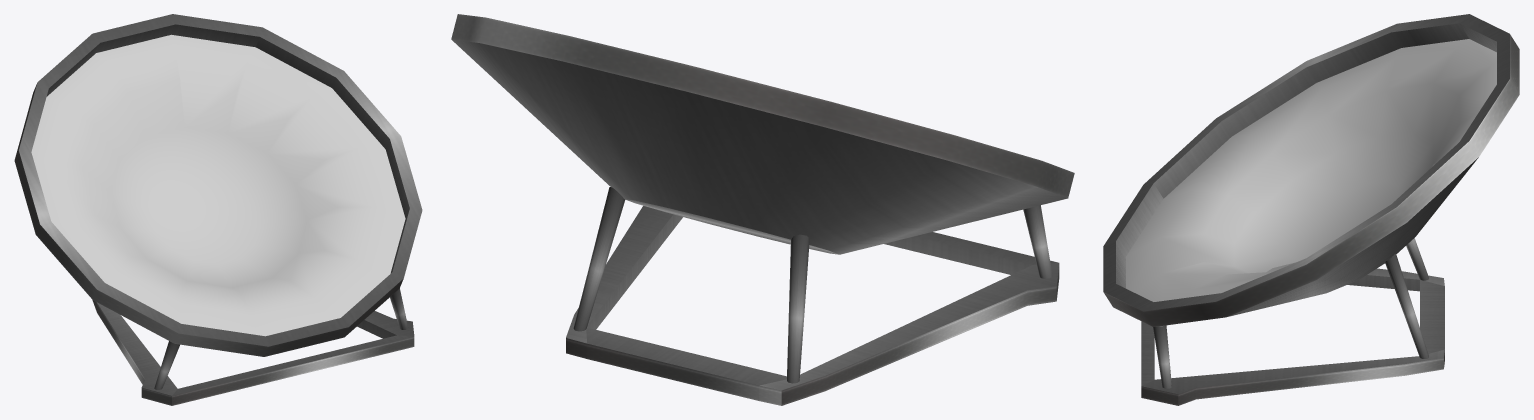
Rendered from Saucer_Chair_02.FBX.
3 renders of one model, left to right at view 1: azimuth 30°, elevation 25°; view 2: azimuth 150°, elevation 25°; view 3: azimuth 270°, elevation 25°, orthographic. The views are drawn at different scales.
Visible parts, largest first — view 1: Saucer Chair; view 2: Saucer Chair; view 3: Saucer Chair.
Boxes of the visible parts, x1,y1,x2,y2 form: Saucer Chair: (14,14,422,405); Saucer Chair: (451,14,1074,405); Saucer Chair: (1103,14,1519,405).
Bounding box in the file's own units: 200 × 125 × 173.
